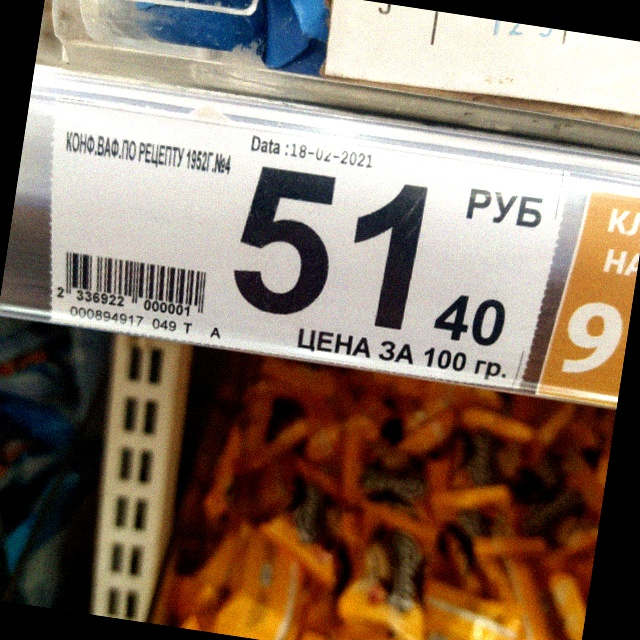barcode: (56, 248, 207, 320)
name: (63, 120, 234, 178)
price: (231, 164, 535, 347)
price_tag: (49, 106, 571, 391)
